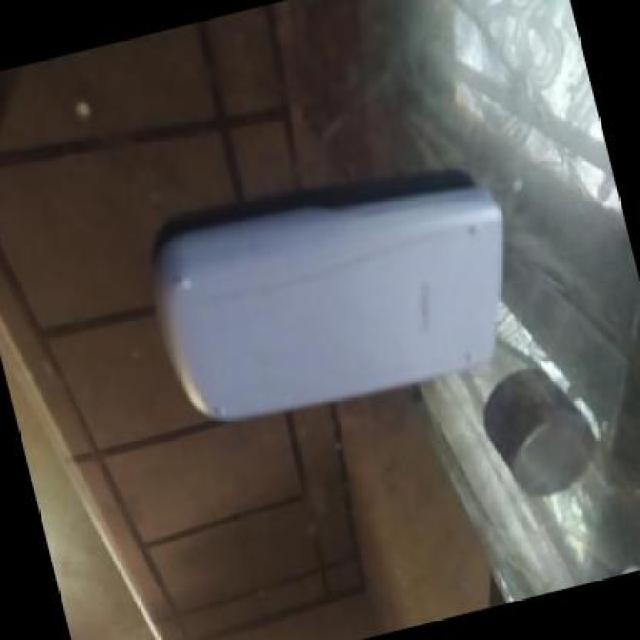Calculator: (131, 144, 543, 453)
